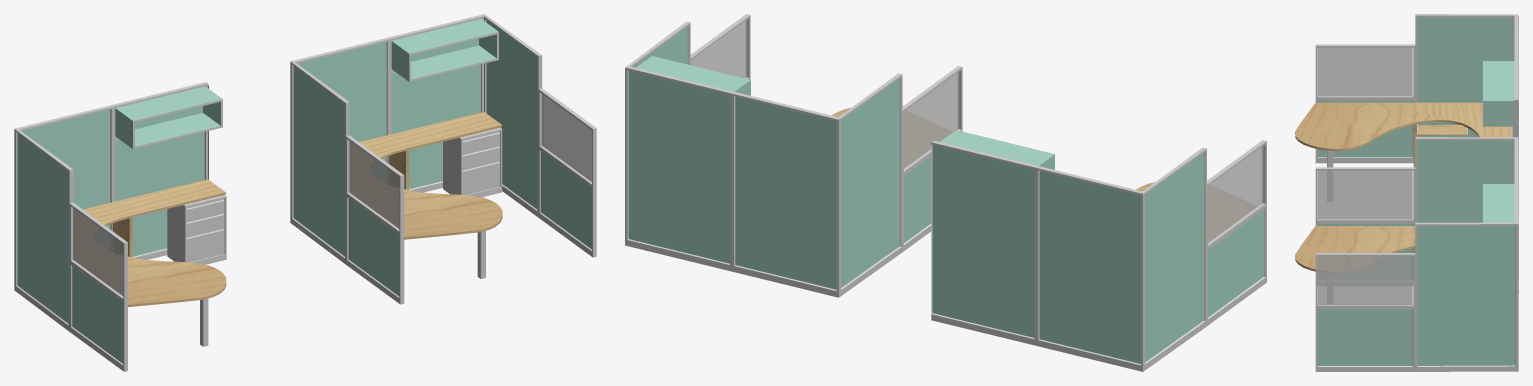
File: Office cubicles.FBX
3 renders of one model, left to right at view 1: azimuth 30°, elevation 25°; view 2: azimuth 150°, elevation 25°; view 3: azimuth 270°, elevation 25°, orthographic. The views are drawn at different scales.
Parts seen in each view (by area): view 1: cubicle01, cubicle02, desktop01, desktop02, FilesDrawer01, FilesDrawer, glass, glass01, glass02; view 2: cubicle02, cubicle01, glass02, glass, glass01, desktop02, desktop01; view 3: cubicle01, cubicle02, desktop02, glass, glass01, glass02, desktop01, keyboard bench01.
Part boxes in pixels (bbox=[...]): cubicle01: bbox=[290, 14, 596, 304]; cubicle02: bbox=[14, 82, 222, 371]; desktop01: bbox=[351, 112, 502, 239]; desktop02: bbox=[75, 179, 226, 306]; FilesDrawer01: bbox=[167, 195, 226, 264]; FilesDrawer: bbox=[443, 127, 502, 197]; glass: bbox=[349, 141, 399, 228]; glass01: bbox=[541, 94, 591, 181]; glass02: bbox=[73, 208, 123, 296]; cubicle02: bbox=[931, 130, 1266, 371]; cubicle01: bbox=[625, 14, 962, 297]; glass02: bbox=[1208, 146, 1263, 243]; glass: bbox=[904, 72, 958, 168]; glass01: bbox=[691, 20, 746, 78]; desktop02: bbox=[1136, 182, 1255, 240]; desktop01: bbox=[832, 107, 950, 166]; cubicle01: bbox=[1315, 137, 1518, 371]; cubicle02: bbox=[1315, 14, 1518, 201]; desktop02: bbox=[1295, 102, 1512, 167]; glass: bbox=[1318, 170, 1412, 219]; glass01: bbox=[1318, 256, 1412, 305]; glass02: bbox=[1318, 47, 1412, 96]; desktop01: bbox=[1295, 226, 1415, 273]; keyboard bench01: bbox=[1417, 124, 1467, 135].
Bounding box in the file's own units: 196 × 88 × 64.1.
4 materials, 1 textured.
